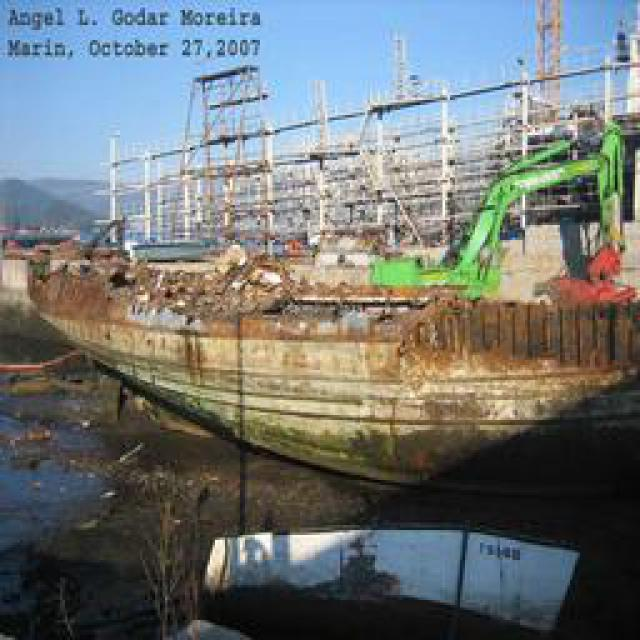Ship: (17, 111, 637, 489)
